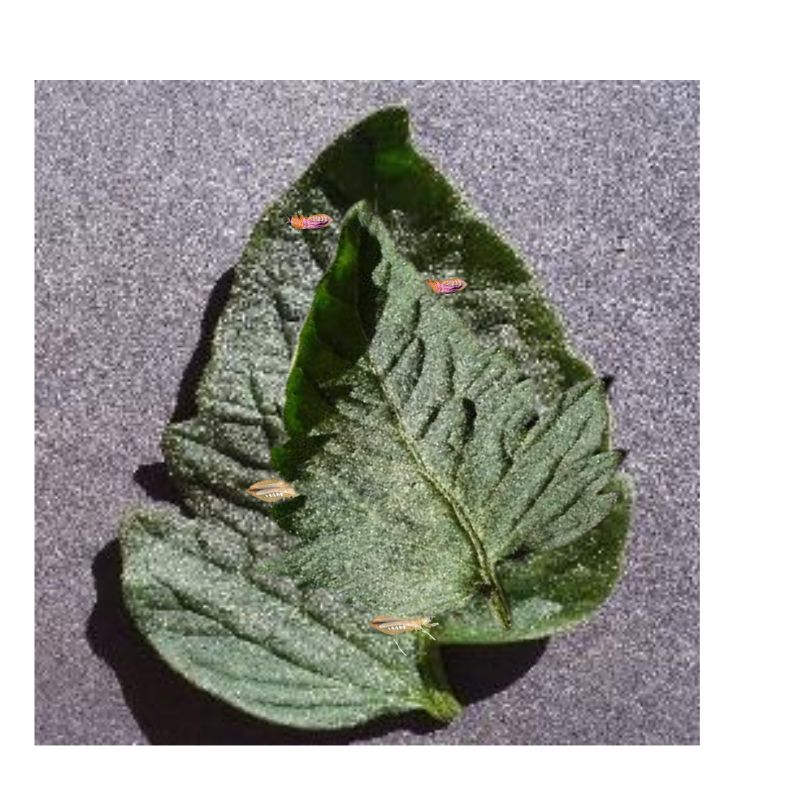thrips: (364, 610, 439, 642), (247, 477, 303, 504), (425, 275, 468, 296), (284, 212, 334, 230)
